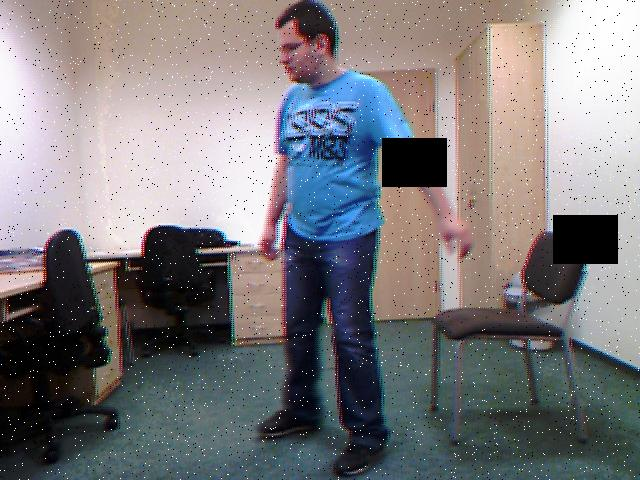walking: (247, 0, 475, 480)
